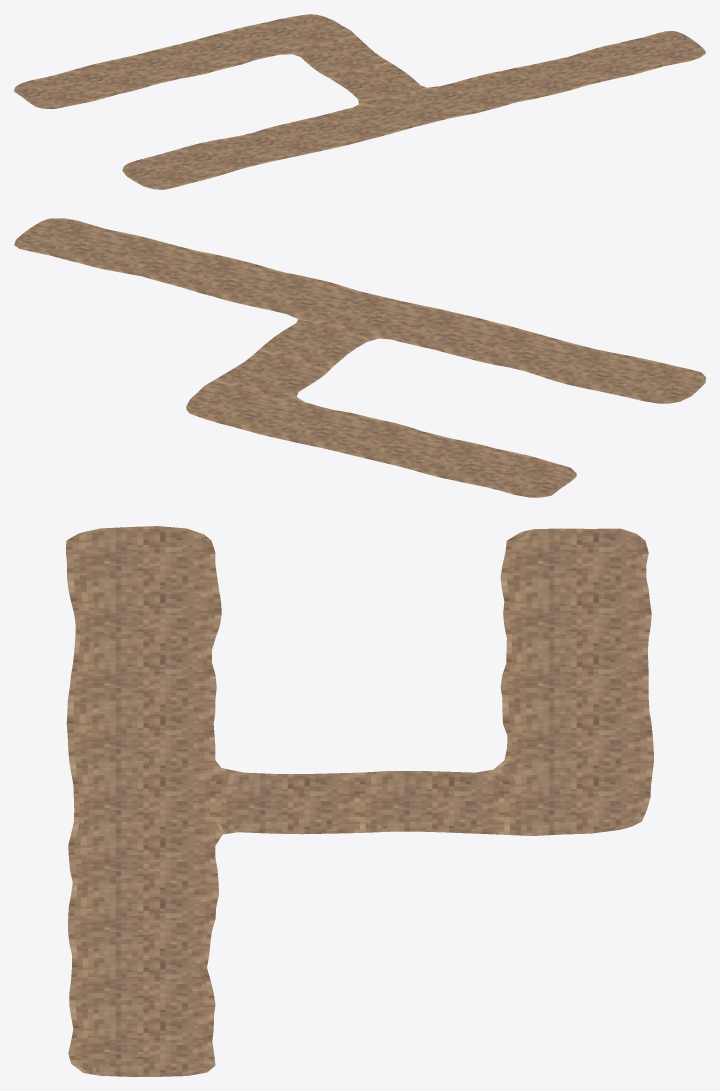
File: Solbourg_Chemin.fbx
3 views of the same model, one above another, from view 1: azimuth 30°, elevation 25°; view 2: azimuth 150°, elevation 25°; view 3: azimuth 270°, elevation 25° (orthographic). The views are drawn at different scales.
Parts seen in each view (by area): view 1: Plane; view 2: Plane; view 3: Plane.
Part boxes in pixels (bbox=[...]): Plane: bbox=[14, 14, 705, 189]; Plane: bbox=[14, 218, 705, 497]; Plane: bbox=[66, 526, 653, 1076].
Bounding box in the file's own units: 1805 × 0.3728 × 815.
Materials: 1 (1 with a texture image).
